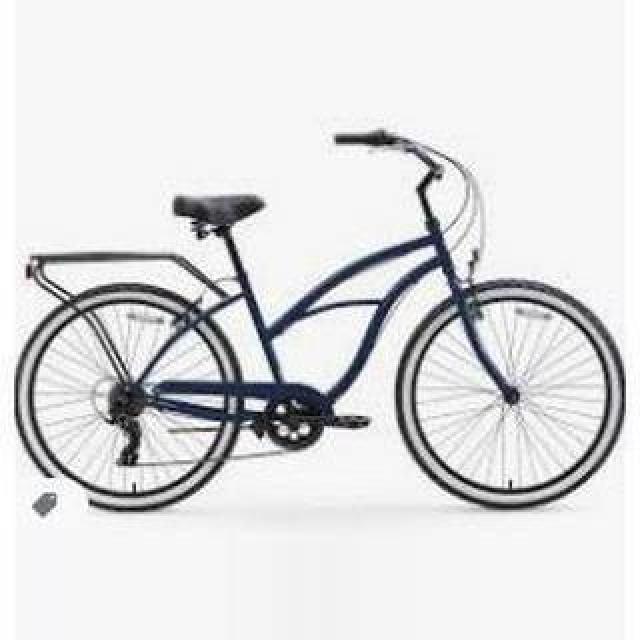Person: (13, 128, 625, 512)
